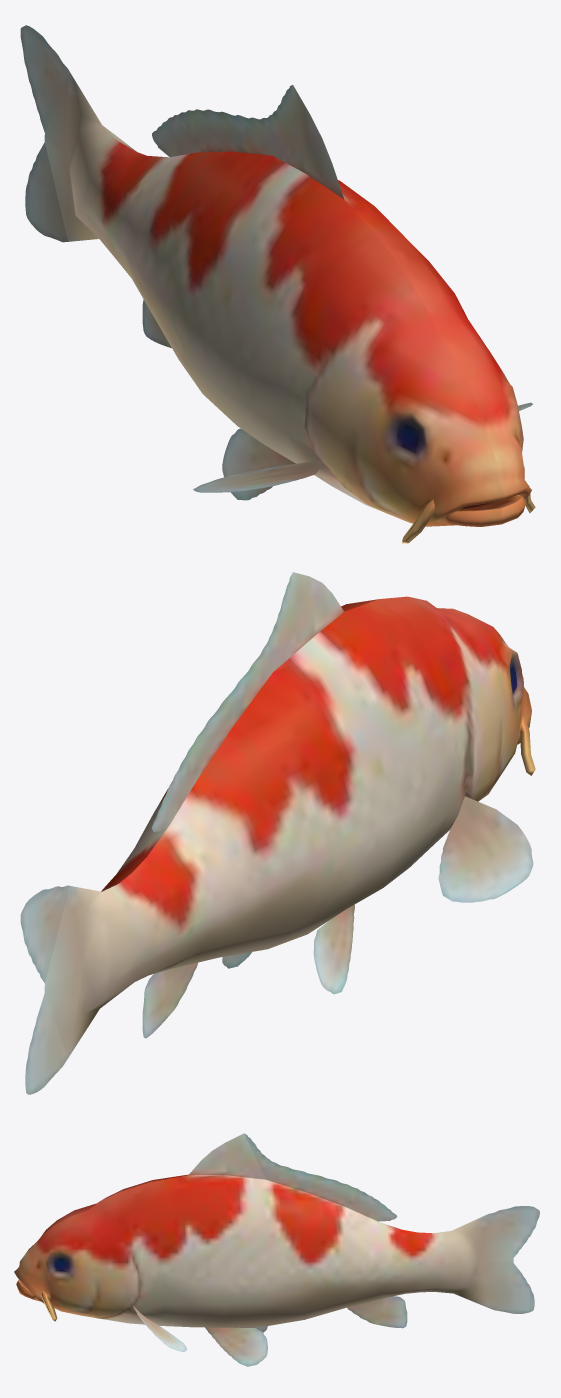
The model's file is koi.glb.
3 views of the same model, one above another, from view 1: azimuth 30°, elevation 25°; view 2: azimuth 150°, elevation 25°; view 3: azimuth 270°, elevation 25° (orthographic). The views are drawn at different scales.
Bounding box in the file's own units: 3.93 × 4.34 × 8.95.
1 material, 1 textured.
